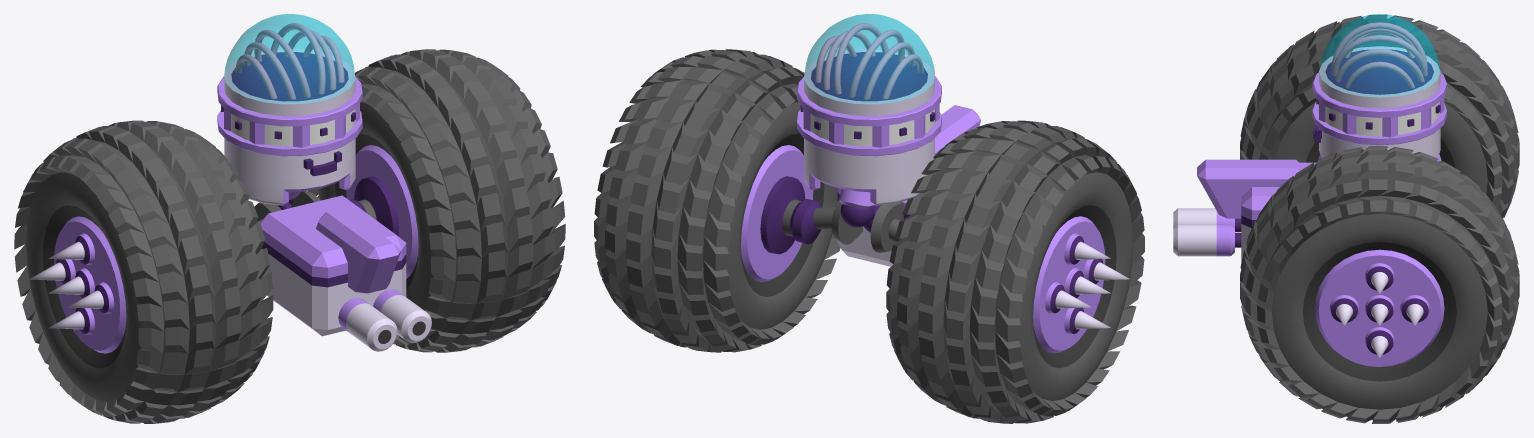
File: Lickquidator_RamBlaast.fbx
The picture shows the model from 3 angles, left to right: view 1: azimuth 30°, elevation 25°; view 2: azimuth 150°, elevation 25°; view 3: azimuth 270°, elevation 25°; orthographic projection. The views are drawn at different scales.
Visible parts, largest first — view 1: wheel1, wheel2, cannon, body_frame, body_dome, visor, brains, spikes2, pSphere7, dividers; view 2: wheel1, wheel2, body_frame, body_dome, visor, pSphere7, brains, spikes2, cannon, dividers, axel2, axel1 (+2 smaller); view 3: wheel2, wheel1, body_dome, cannon, body_frame, visor, spikes1, brains, dividers.
Part boxes in pixels (x1=…): wheel1: x1=14, y1=120, x2=273, y2=423; wheel2: x1=308, y1=49, x2=565, y2=352; cannon: x1=260, y1=195, x2=431, y2=351; body_frame: x1=224, y1=49, x2=355, y2=205; body_dome: x1=224, y1=14, x2=355, y2=103; visor: x1=217, y1=76, x2=362, y2=156; brains: x1=235, y1=23, x2=344, y2=99; spikes2: x1=29, y1=233, x2=114, y2=334; pSphere7: x1=349, y1=176, x2=398, y2=235; dividers: x1=224, y1=103, x2=359, y2=147; wheel1: x1=886, y1=120, x2=1144, y2=423; wheel2: x1=594, y1=49, x2=840, y2=352; body_frame: x1=804, y1=49, x2=934, y2=205; body_dome: x1=804, y1=14, x2=934, y2=103; visor: x1=797, y1=76, x2=941, y2=156; pSphere7: x1=760, y1=176, x2=835, y2=254; brains: x1=815, y1=23, x2=923, y2=99; spikes2: x1=1045, y1=233, x2=1129, y2=334; cannon: x1=837, y1=105, x2=980, y2=266; dividers: x1=803, y1=104, x2=939, y2=147; axel2: x1=870, y1=201, x2=903, y2=252; axel1: x1=831, y1=200, x2=862, y2=244; wheel2: x1=1240, y1=146, x2=1519, y2=423; wheel1: x1=1240, y1=15, x2=1519, y2=217; body_dome: x1=1319, y1=14, x2=1440, y2=97; cannon: x1=1173, y1=159, x2=1316, y2=262; body_frame: x1=1319, y1=46, x2=1440, y2=158; visor: x1=1312, y1=72, x2=1446, y2=145; spikes1: x1=1329, y1=263, x2=1429, y2=357; brains: x1=1331, y1=22, x2=1427, y2=88; dividers: x1=1319, y1=97, x2=1444, y2=137.
Size of the model in its own units: 4.96 by 3.47 by 3.33.
